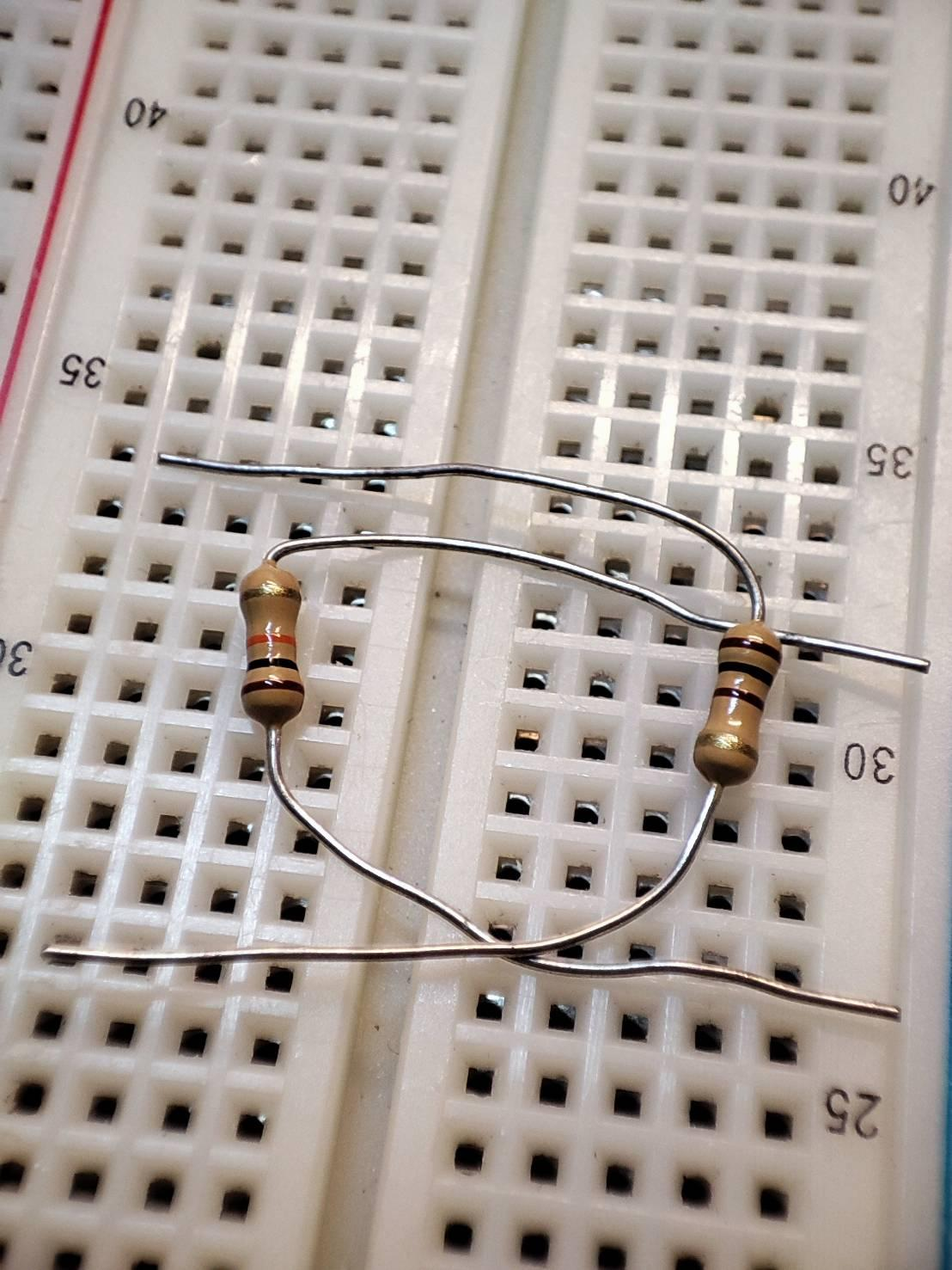resistor: (239, 557, 308, 727)
